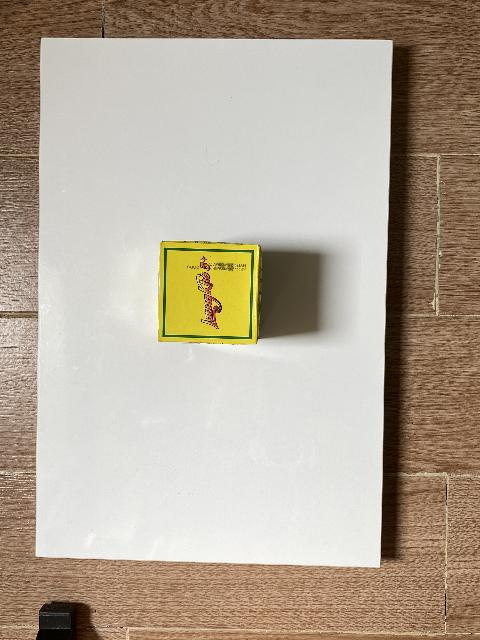luong_kho: (157, 241, 262, 345)
